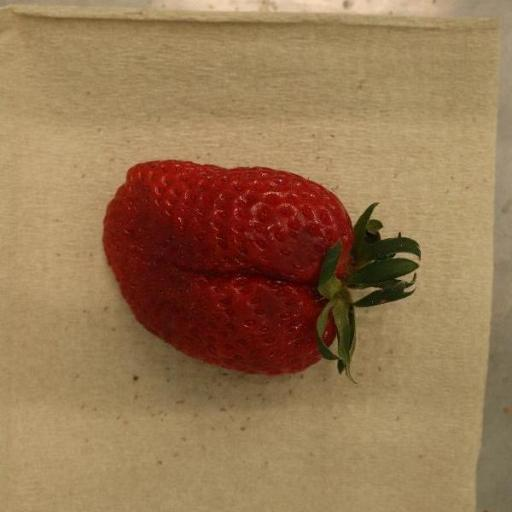Strawberry: (102, 160, 423, 377)
